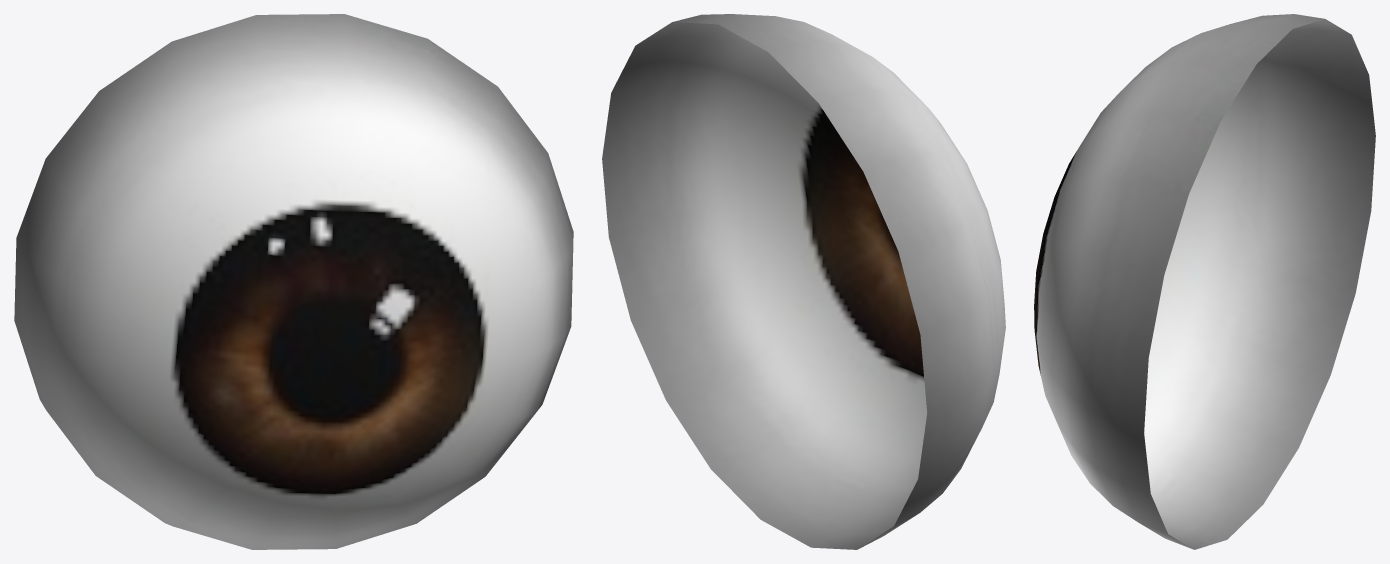
File: hetun_eye_left.fbx
3 renders of one model, left to right at view 1: azimuth 30°, elevation 25°; view 2: azimuth 150°, elevation 25°; view 3: azimuth 270°, elevation 25°, orthographic. The views are drawn at different scales.
Visible parts, largest first — view 1: Left_Eye4; view 2: Left_Eye4; view 3: Left_Eye4.
Part boxes in pixels (box(x1,y1,x2,y2)): Left_Eye4: box(14, 14, 573, 549); Left_Eye4: box(602, 14, 1005, 549); Left_Eye4: box(1034, 14, 1375, 549).
Bounding box in the file's own units: 0.0736 × 0.078 × 0.0492.
